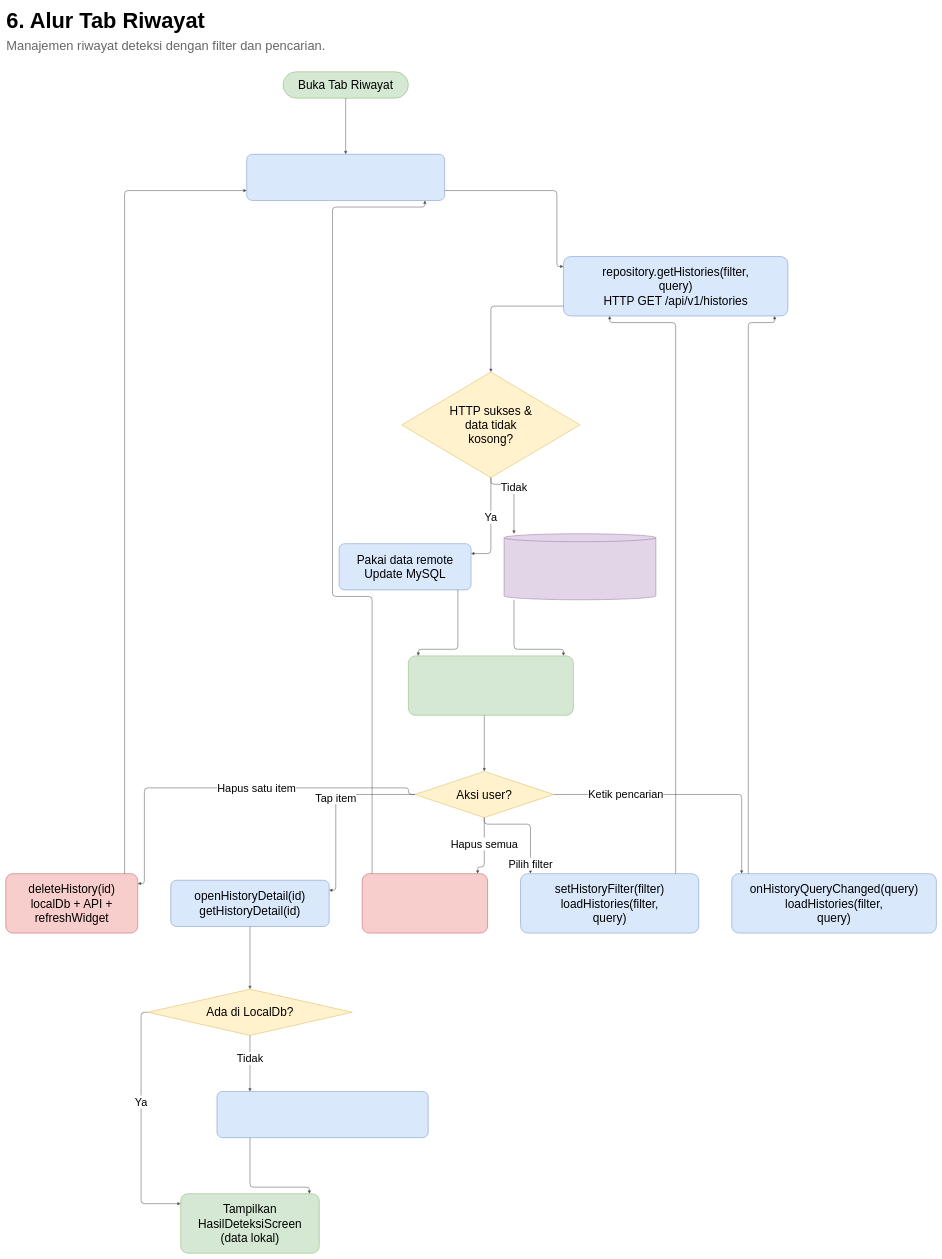
The diagram is 942 pixels wide and 1259 high, and some of its shapes have lost their labels. The centre of each missing label's shape, as x and y in pixels:
"clearHistories() localDb + API + refreshWidget" belongs at pixel 425 903.
"Fallback: LocalHistoryDatabase (SQLite snapshot)" belongs at pixel 580 566.
"GET /api/v1/histories/{id} localDb.saveDetection(result)" belongs at pixel 322 1114.
"loadHistories(filter='all', query='')" belongs at pixel 345 177.
"Tampilkan list riwayat HistoryCounts: Semua/Hoaks/Fakta" belongs at pixel 490 685.
